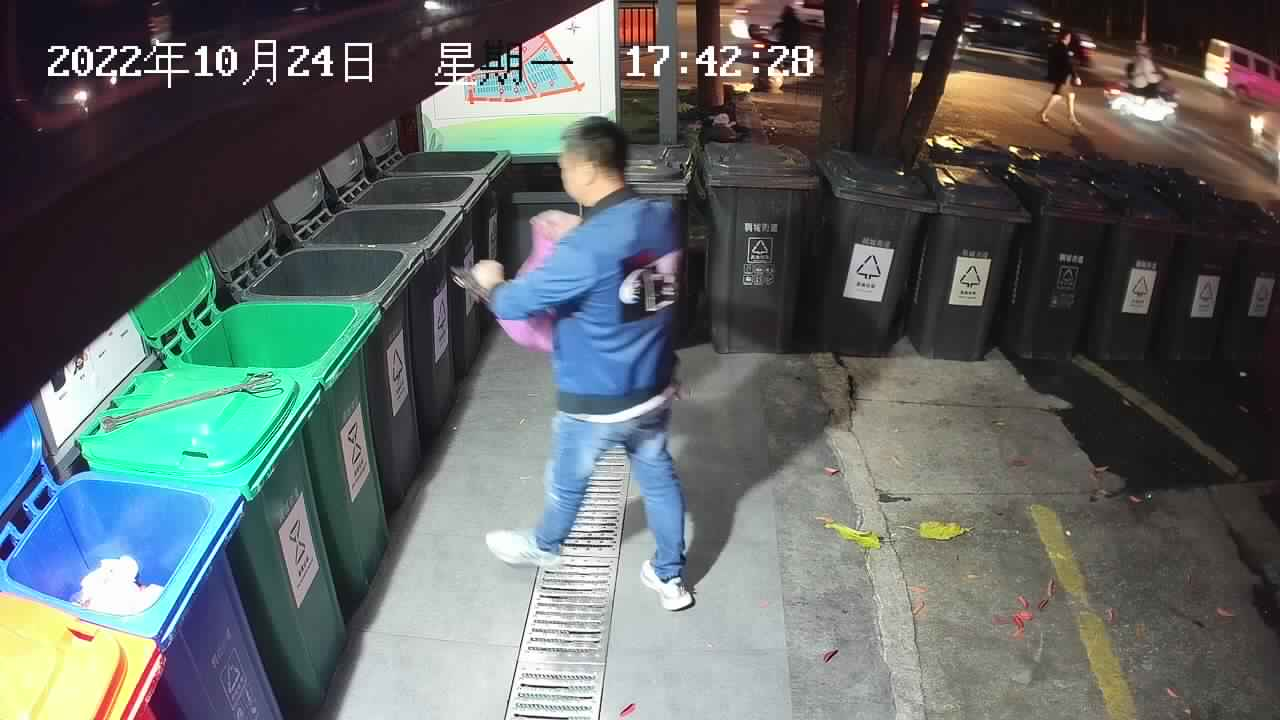worker: (469, 115, 696, 612)
